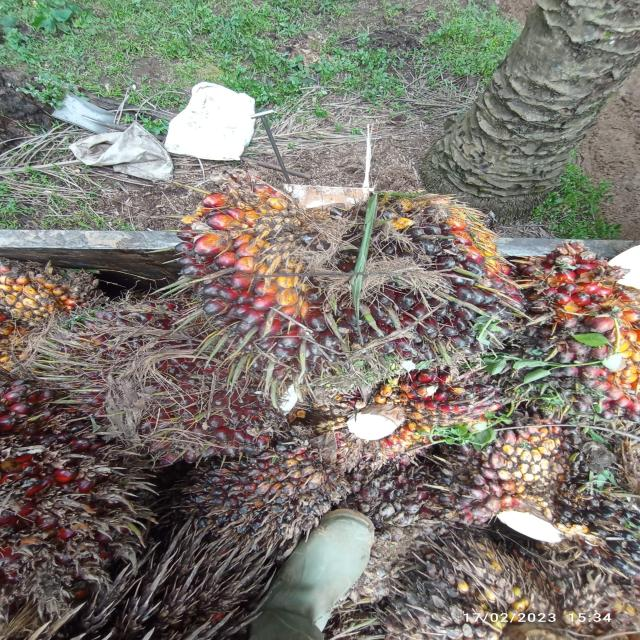fraksi 1: (163, 169, 536, 396), (25, 276, 325, 476), (1, 441, 148, 623), (503, 222, 640, 414)
